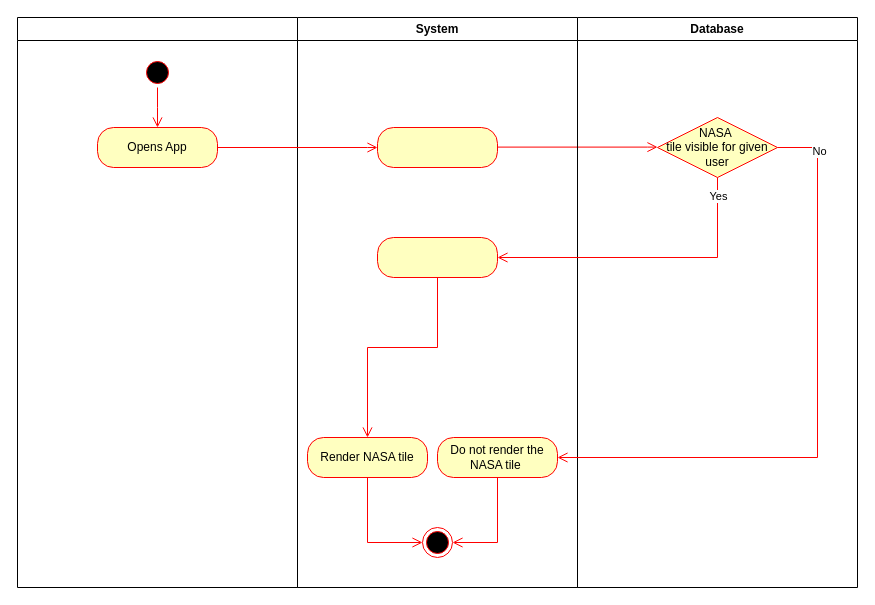
Some shapes in this 875 by 605 pixel diagram are drawn without their labels. Here are the shapes that lost their labels. From the top down, the box of each, then its label:
(376, 126, 498, 168): NASA tile visible?
(376, 236, 498, 278): Call NASA API
(16, 16, 298, 588): User
